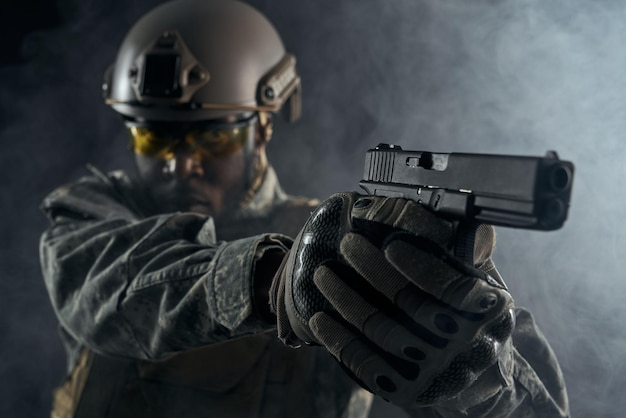gun: (357, 141, 576, 271)
